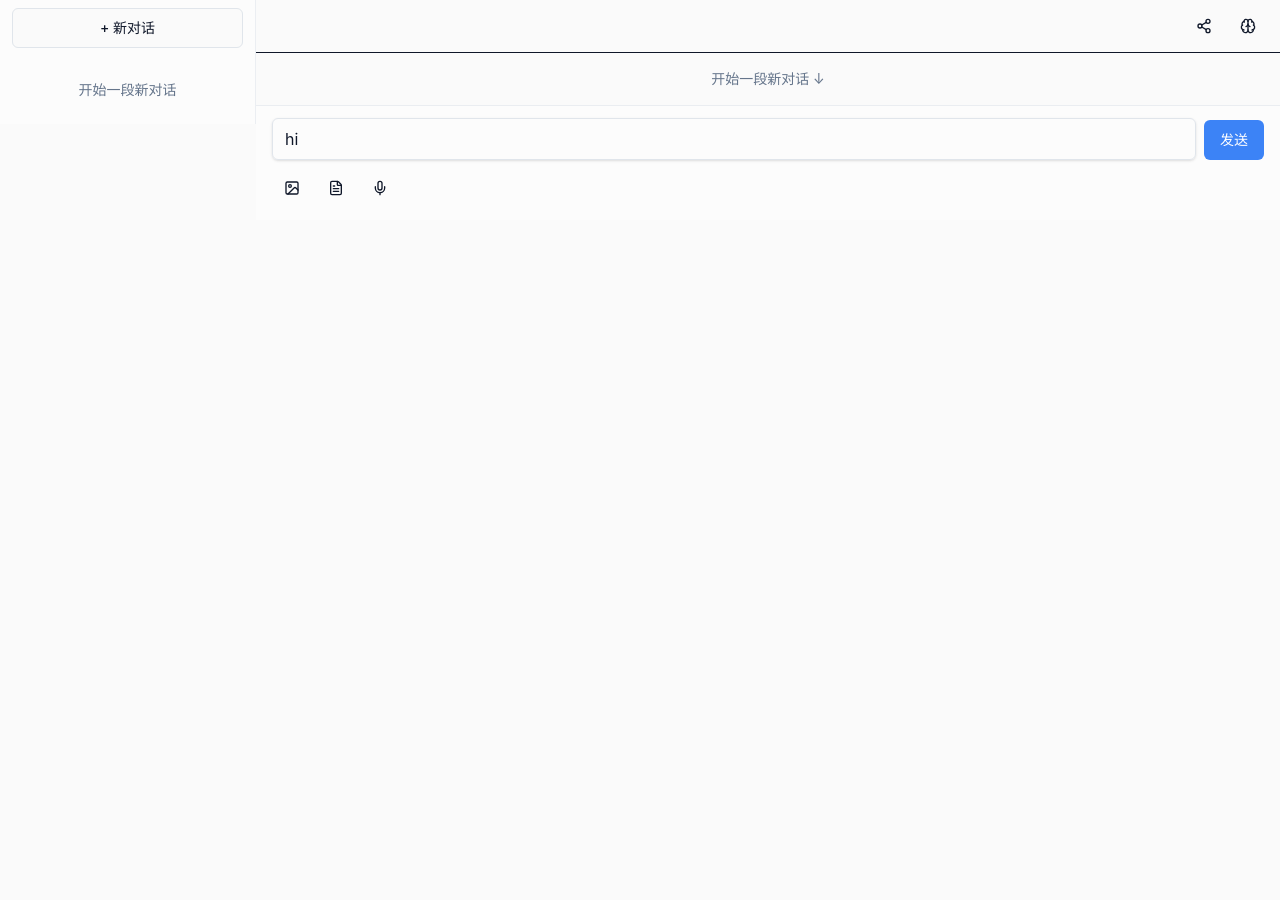
Test: ChatShell › 记忆与分享 › 渲染 Share 图标按钮 + 点击弹 ShareDialog (创建按钮可见)
Click the button with test id "share-button" at (1204, 26), box [1184, 6, 1224, 46]
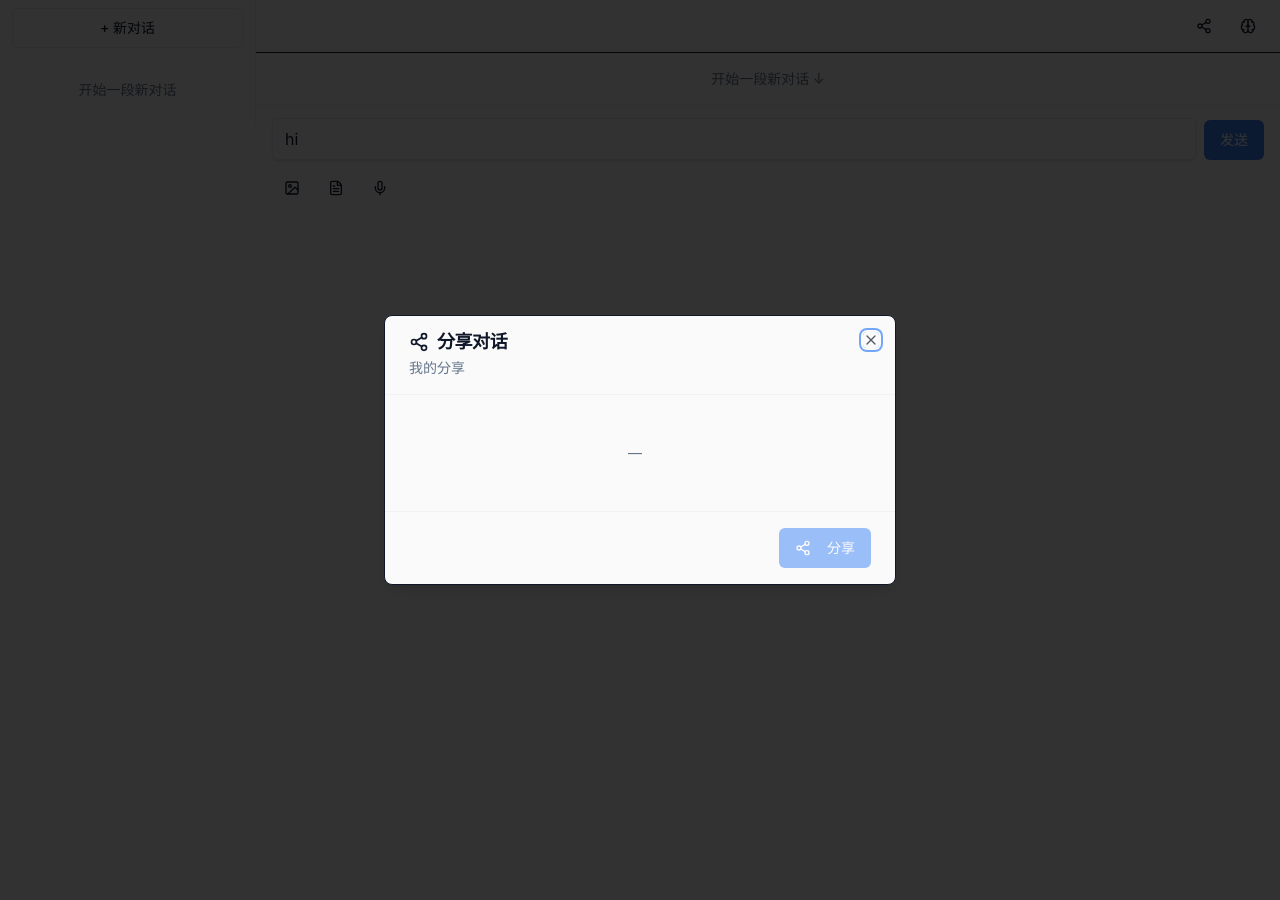
Expected: the button with test id "share-dialog-create" is shown, [779, 528, 871, 568]
